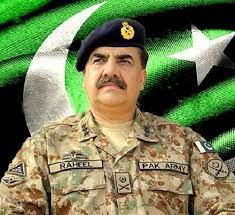uniform: (4, 111, 235, 212)
